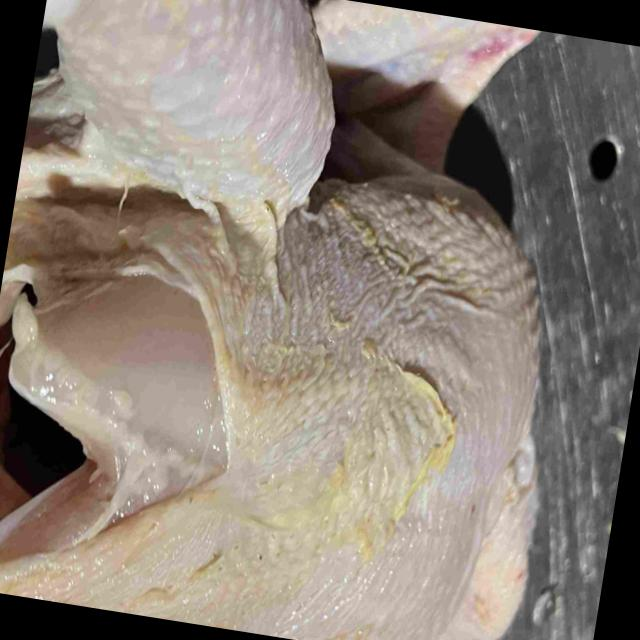breast: (12, 181, 542, 640)
leg: (14, 0, 332, 230)
wing: (322, 0, 545, 295)
